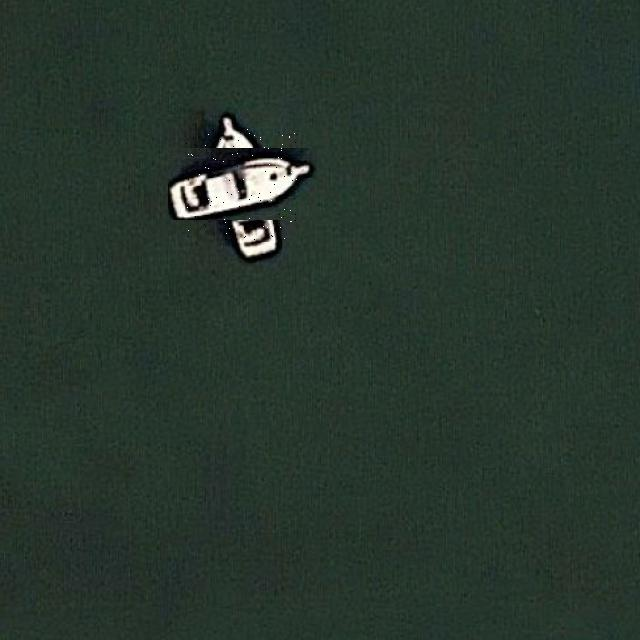boat: (186, 128, 298, 240)
